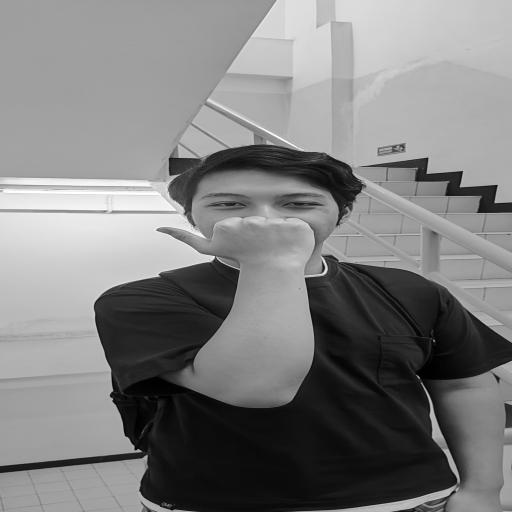back: (132, 209, 346, 277)
